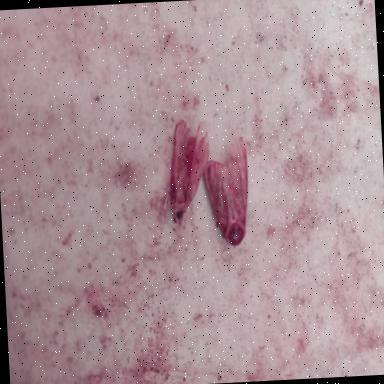pbw: (203, 134, 253, 246), (165, 116, 214, 225)
